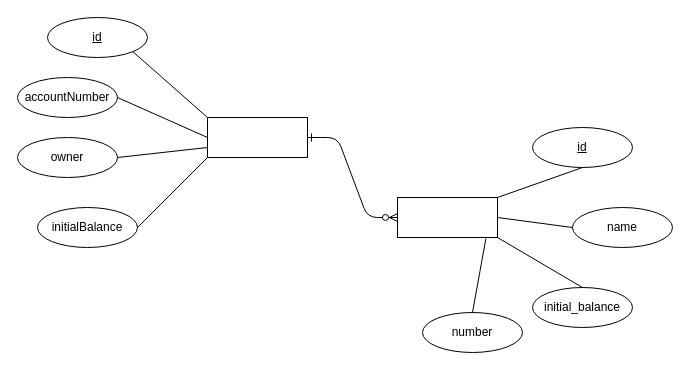
This 690x370 diagram has some shape labels left out. The centre of each missing label's shape, as x and y in pixels:
"Account" goes at point 257,137.
"Pocket" goes at point 447,217.
